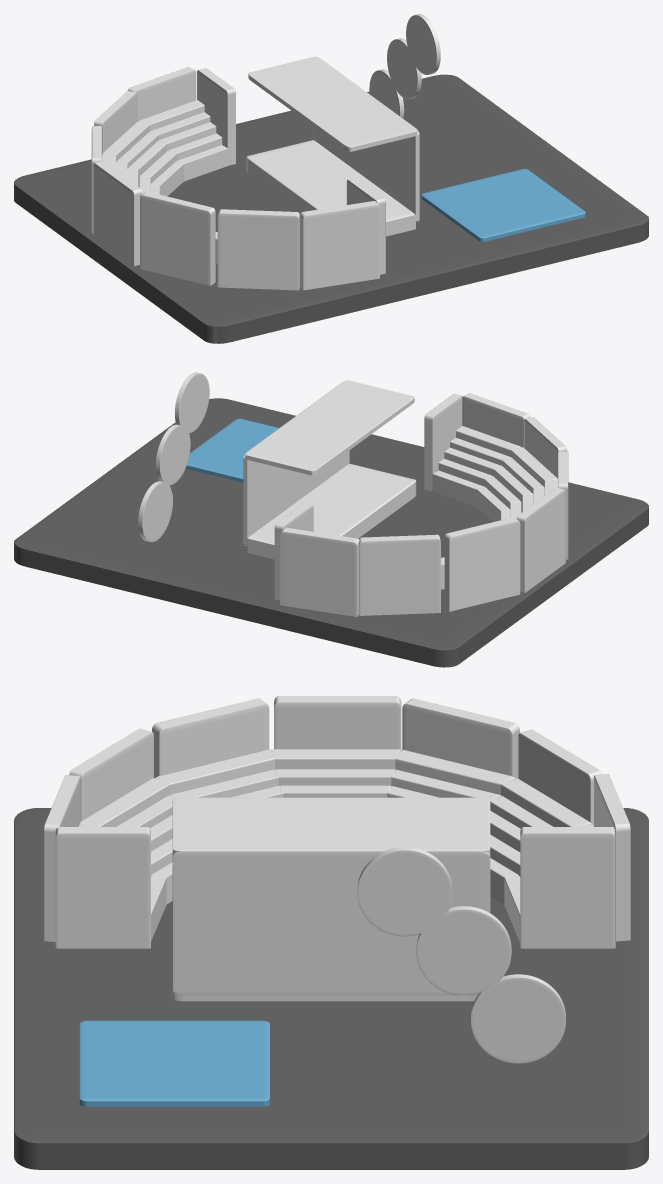
File: theatre.glb
The picture shows the model from 3 angles, top to bottom: view 1: azimuth 30°, elevation 25°; view 2: azimuth 150°, elevation 25°; view 3: azimuth 270°, elevation 25°; orthographic projection. The views are drawn at different scales.
Visible parts, largest first — view 1: land, seats, stage, water, statue; view 2: land, seats, stage, statue, water; view 3: land, seats, stage, statue, water.
Boxes of the visible parts, x1=… form: land: x1=14, y1=74, x2=648, y2=343; seats: x1=91, y1=67, x2=385, y2=290; stage: x1=246, y1=56, x2=419, y2=236; water: x1=421, y1=169, x2=585, y2=241; statue: x1=369, y1=14, x2=440, y2=118; land: x1=14, y1=398, x2=648, y2=667; seats: x1=274, y1=393, x2=568, y2=616; stage: x1=243, y1=380, x2=416, y2=559; statue: x1=138, y1=372, x2=209, y2=542; water: x1=185, y1=418, x2=278, y2=482; land: x1=14, y1=808, x2=648, y2=1169; seats: x1=44, y1=696, x2=630, y2=948; stage: x1=172, y1=797, x2=490, y2=1001; statue: x1=357, y1=847, x2=565, y2=1063; water: x1=79, y1=1020, x2=269, y2=1106.
Size of the model in its own units: 2.5 by 0.842 by 2.
